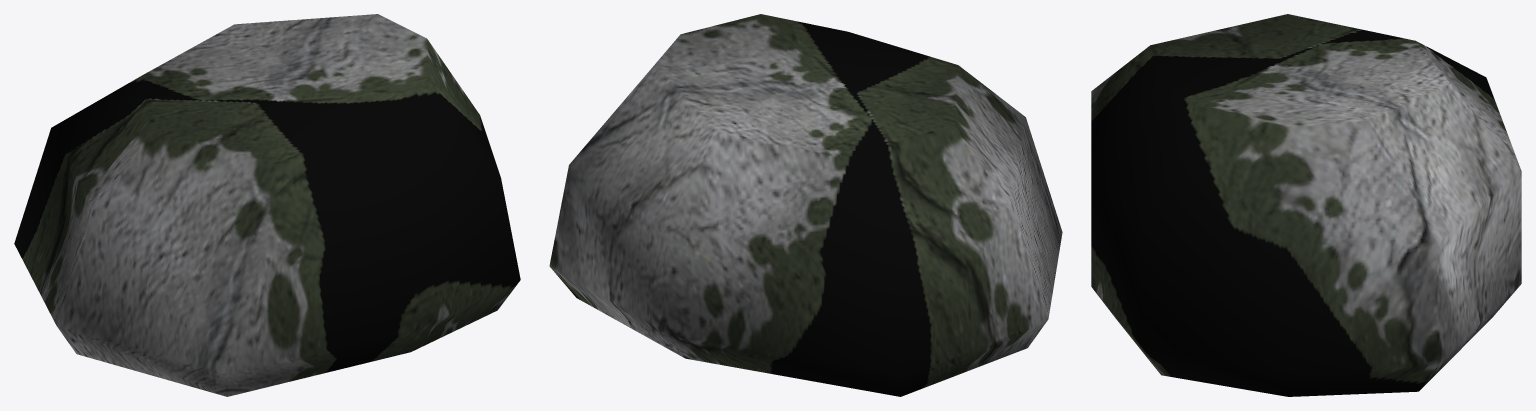
Rendered from Roca2.obj.
3 renders of one model, left to right at view 1: azimuth 30°, elevation 25°; view 2: azimuth 150°, elevation 25°; view 3: azimuth 270°, elevation 25°, orthographic. The views are drawn at different scales.
Parts seen in each view (by area): view 1: Rock02; view 2: Rock02; view 3: Rock02.
Boxes of the visible parts, box(x1,y1,x2,y2) form: Rock02: box(14, 14, 520, 396); Rock02: box(549, 14, 1062, 396); Rock02: box(1091, 14, 1521, 396).
Size of the model in its own units: 3.09 by 1.53 by 2.47.
1 material, 1 textured.
